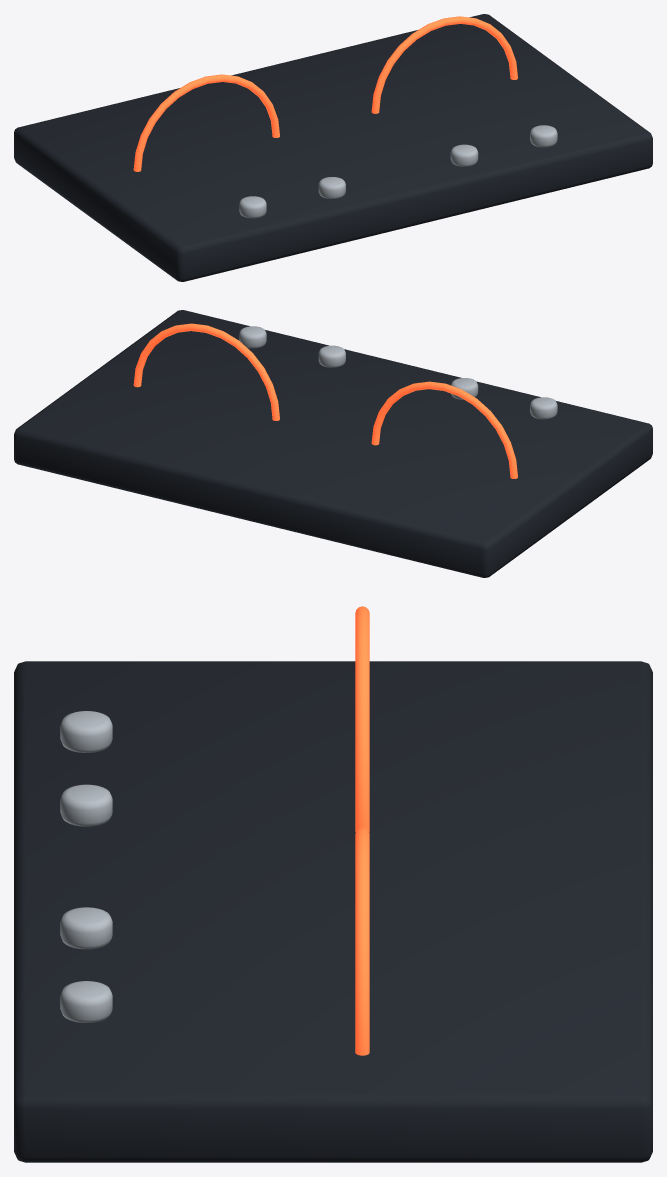
File: stove_induction_dual-971c9a0f61c4.glb
3 renders of one model, top to bottom at view 1: azimuth 30°, elevation 25°; view 2: azimuth 150°, elevation 25°; view 3: azimuth 270°, elevation 25°, orthographic. The views are drawn at different scales.
Visible parts, largest first — view 1: Glass_Hob, Mesh_Induction_Ring, Mesh_Brushed_Steel; view 2: Glass_Hob, Mesh_Induction_Ring, Mesh_Brushed_Steel; view 3: Glass_Hob, Mesh_Brushed_Steel, Mesh_Induction_Ring.
Boxes of the visible parts, bbox=[...] form: Glass_Hob: bbox=[14, 14, 652, 281]; Mesh_Induction_Ring: bbox=[133, 16, 517, 171]; Mesh_Brushed_Steel: bbox=[239, 125, 557, 218]; Glass_Hob: bbox=[14, 310, 652, 577]; Mesh_Induction_Ring: bbox=[133, 323, 517, 478]; Mesh_Brushed_Steel: bbox=[239, 326, 557, 419]; Glass_Hob: bbox=[14, 661, 652, 1162]; Mesh_Brushed_Steel: bbox=[60, 711, 112, 1022]; Mesh_Induction_Ring: bbox=[355, 606, 369, 1055].
Size of the model in its own units: 0.72 by 0.22 by 0.44.
